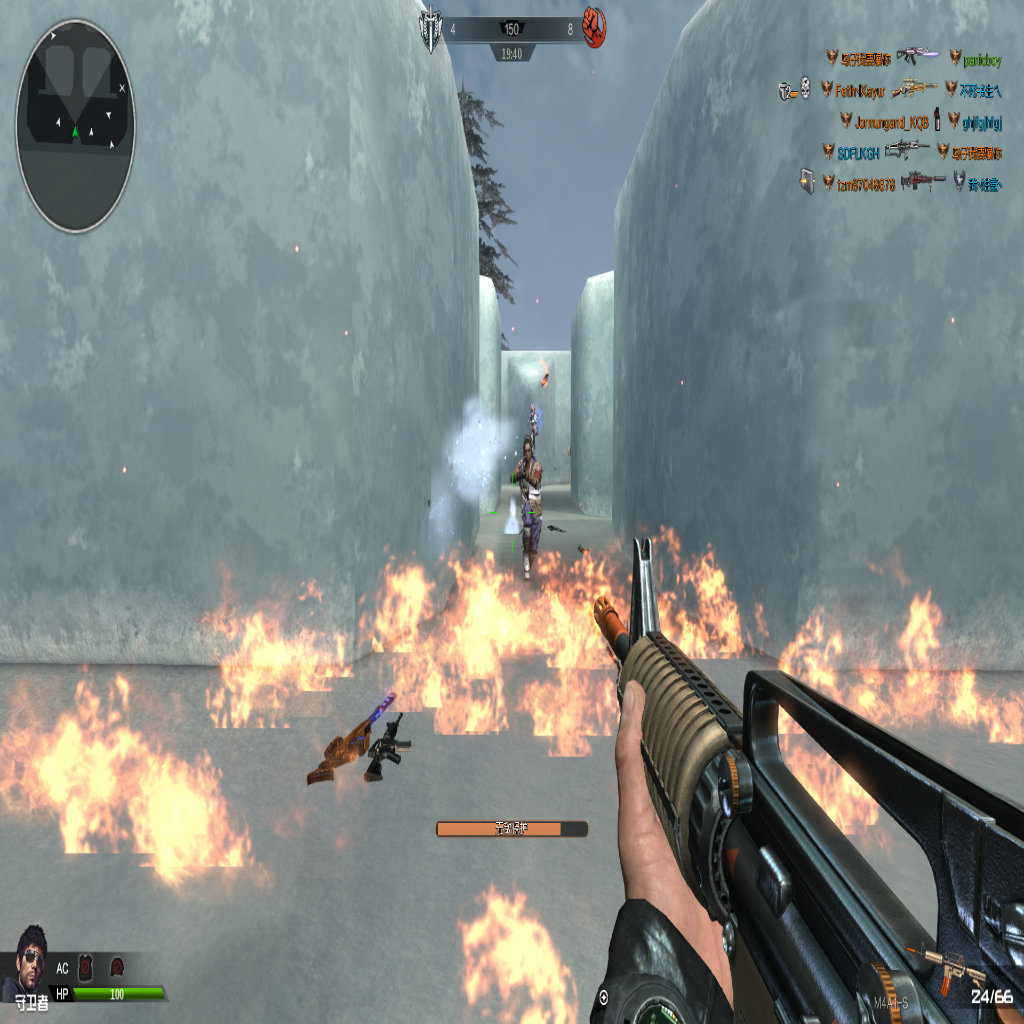tt: (510, 438, 542, 570)
